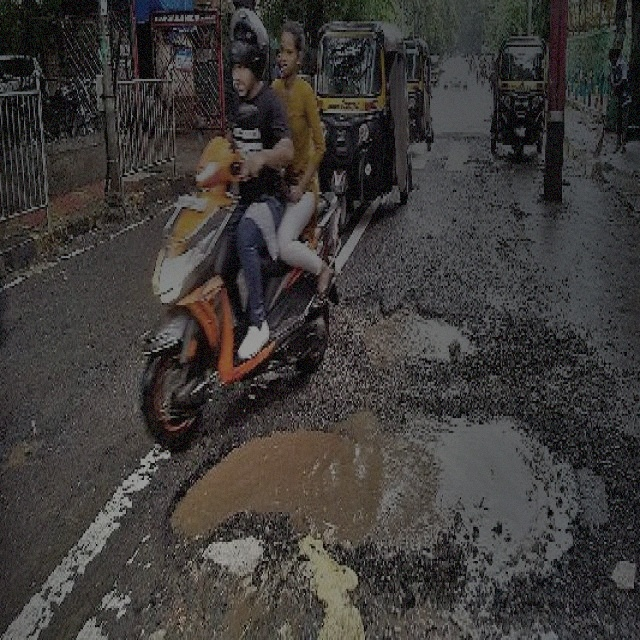pothole: (161, 405, 583, 578), (358, 290, 480, 367)
